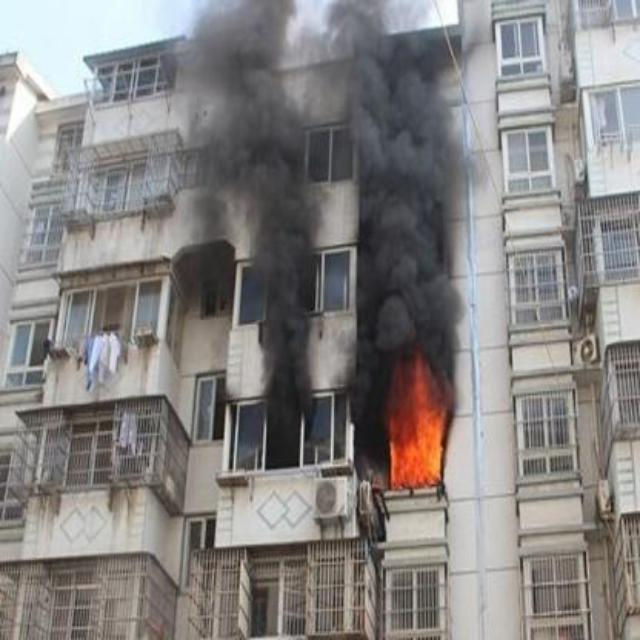Fire: (384, 344, 446, 492)
Smoke: (206, 3, 332, 459), (364, 45, 458, 352)
